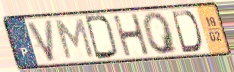D: (83, 14, 120, 61), (170, 10, 203, 55)
H: (111, 12, 152, 59)
M: (54, 17, 96, 61)
Q: (141, 10, 181, 56)
V: (25, 18, 57, 63)
